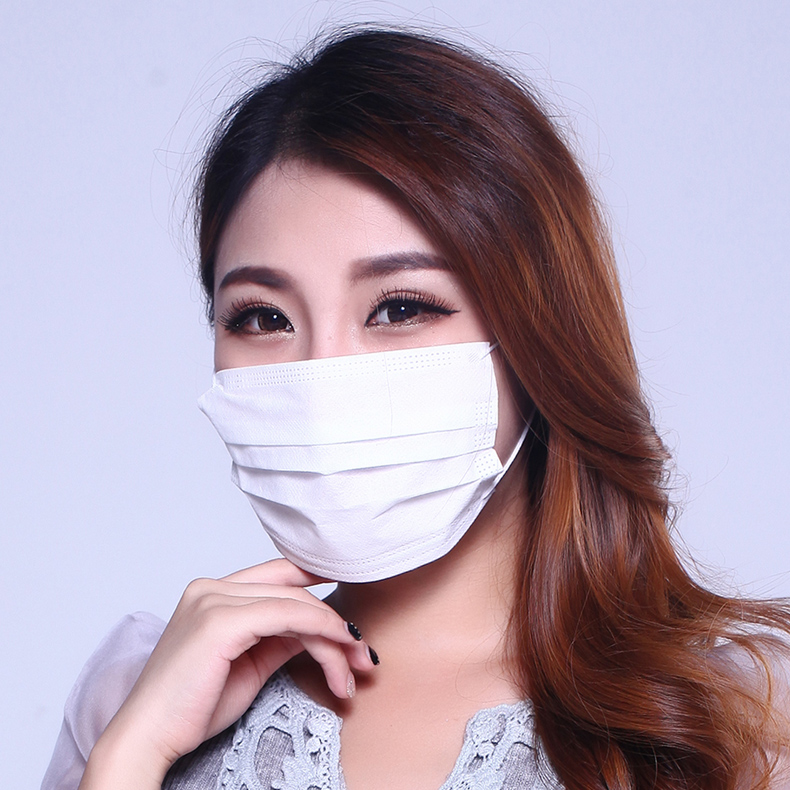face_mask: (208, 157, 501, 552)
